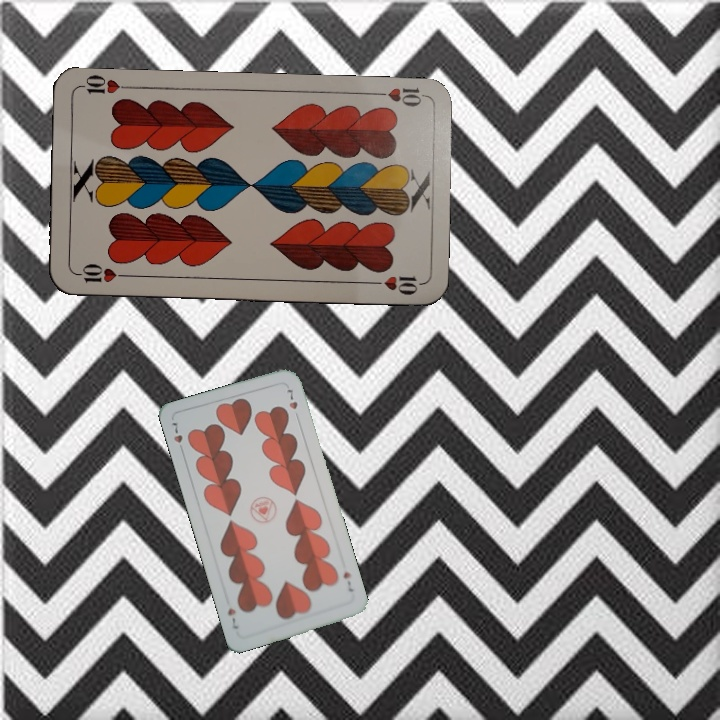H10: (73, 261, 132, 286), (368, 84, 427, 109)
H7: (167, 418, 186, 456), (339, 568, 356, 594)
